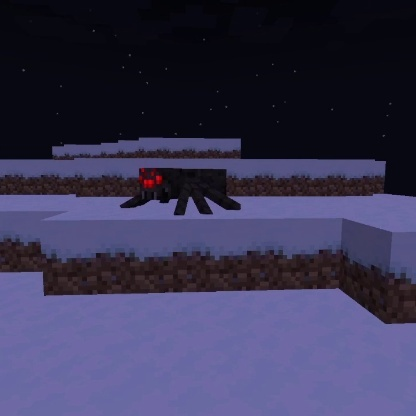spider: (118, 164, 247, 219)
